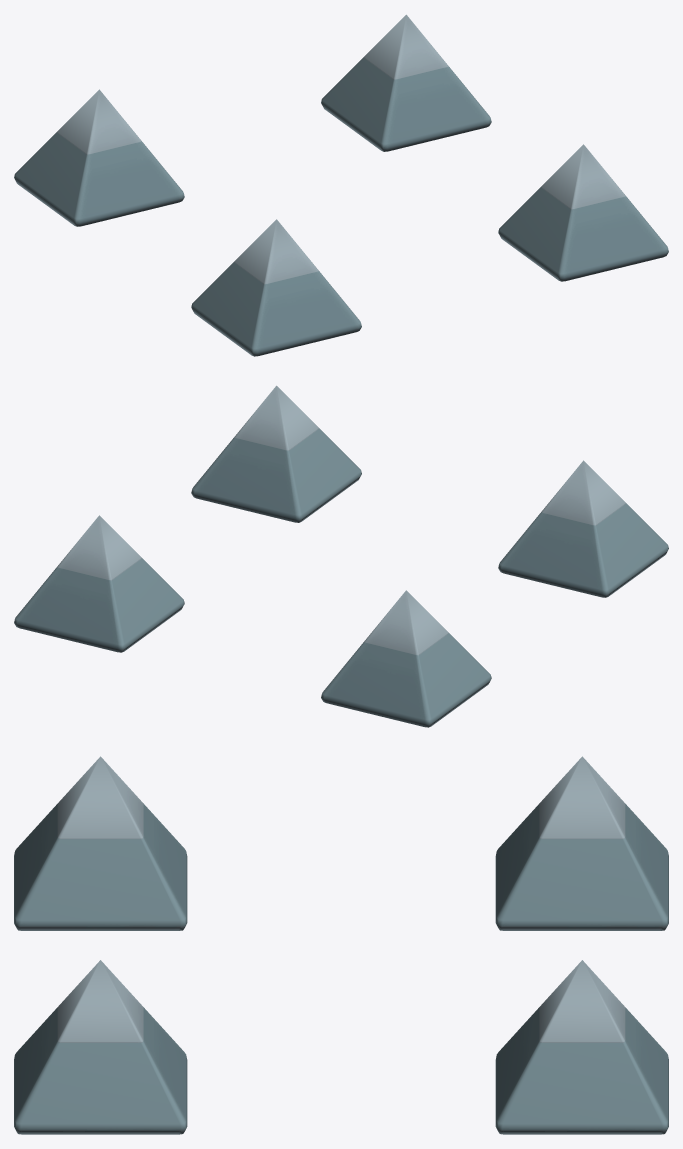
The model's file is Props.fbx.
3 renders of one model, top to bottom at view 1: azimuth 30°, elevation 25°; view 2: azimuth 150°, elevation 25°; view 3: azimuth 270°, elevation 25°, orthographic. The views are drawn at different scales.
Visible parts, largest first — view 1: 三角锥 (×4); view 2: 三角锥 (×4); view 3: 三角锥 (×4).
Boxes of the visible parts, box(x1,y1,x2,y2) form: 三角锥 (×4): box(14, 14, 668, 356); 三角锥 (×4): box(14, 385, 668, 727); 三角锥 (×4): box(14, 756, 668, 1134).
Bounding box in the file's own units: 13.59 × 3.19 × 13.6.
1 material, 1 textured.
